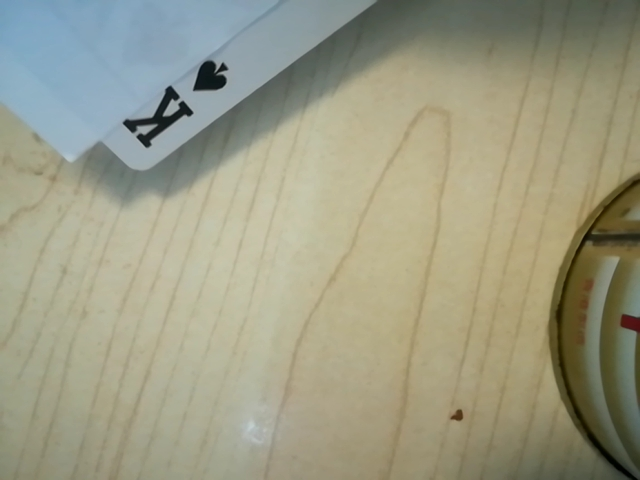ht k: (107, 42, 247, 165)
